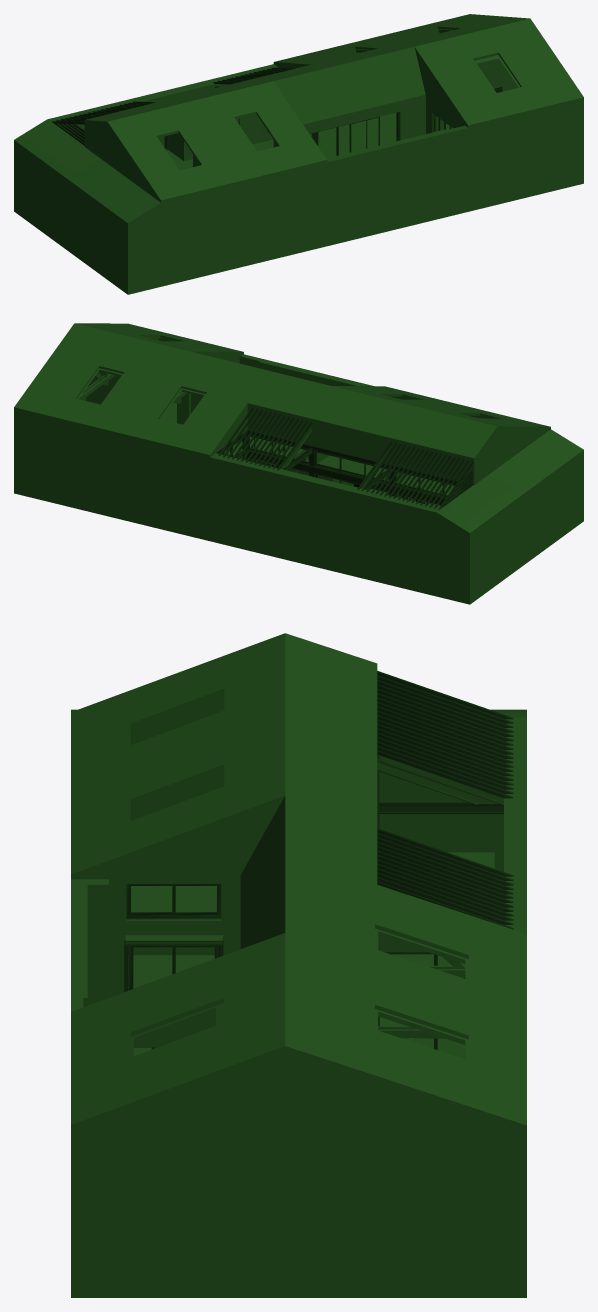
Rendered from AVP6_Shadow_Layer.fbx.
3 renders of one model, top to bottom at view 1: azimuth 30°, elevation 25°; view 2: azimuth 150°, elevation 25°; view 3: azimuth 270°, elevation 25°, orthographic. The views are drawn at different scales.
Visible parts, largest first — view 1: Shadow_Layer_Roof, Shadow_Layer_Walls, Shadow_Layer_Wood; view 2: Shadow_Layer_Roof, Shadow_Layer_Wood, Shadow_Layer_Walls; view 3: Shadow_Layer_Roof, Shadow_Layer_Wood, Shadow_Layer_Walls.
Part boxes in pixels (bbox=[...]): Shadow_Layer_Roof: bbox=[14, 14, 583, 294]; Shadow_Layer_Walls: bbox=[59, 28, 520, 170]; Shadow_Layer_Wood: bbox=[51, 29, 501, 155]; Shadow_Layer_Roof: bbox=[14, 323, 583, 604]; Shadow_Layer_Wood: bbox=[79, 338, 473, 509]; Shadow_Layer_Walls: bbox=[77, 337, 490, 505]; Shadow_Layer_Roof: bbox=[71, 633, 526, 1297]; Shadow_Layer_Wood: bbox=[124, 671, 513, 1049]; Shadow_Layer_Walls: bbox=[71, 694, 503, 1060].
Bounding box in the file's own units: 23.79 × 6.28 × 10.3.
